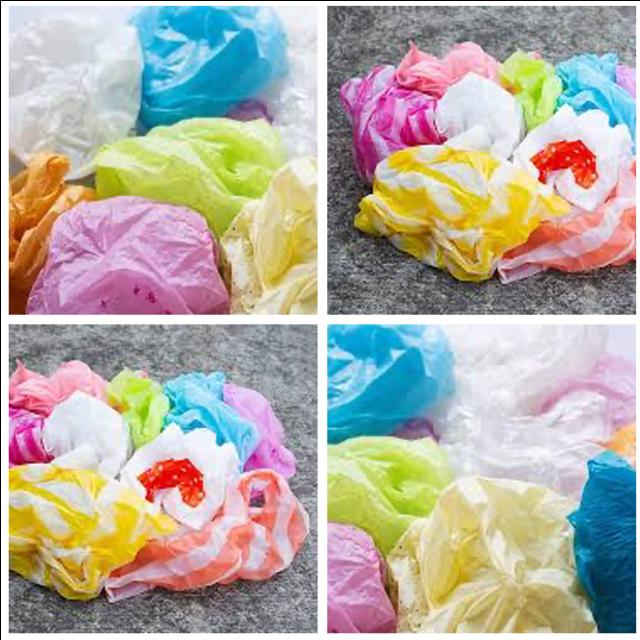plastik: (440, 325, 635, 498), (387, 475, 595, 632), (353, 144, 569, 281), (104, 468, 308, 600), (26, 196, 227, 313), (92, 116, 284, 236), (8, 463, 176, 599), (8, 7, 141, 178), (131, 5, 286, 130), (497, 157, 635, 283), (219, 156, 316, 313), (327, 435, 452, 555), (327, 324, 453, 442), (8, 152, 93, 313), (119, 423, 239, 528), (512, 105, 631, 210), (339, 65, 444, 181), (568, 450, 635, 631), (162, 370, 258, 464), (42, 389, 131, 476), (434, 71, 524, 157), (555, 52, 635, 147), (327, 522, 395, 632), (267, 5, 316, 157), (222, 382, 295, 478), (395, 41, 500, 97), (8, 359, 107, 416), (107, 367, 169, 449), (500, 48, 561, 130), (8, 406, 51, 464)
